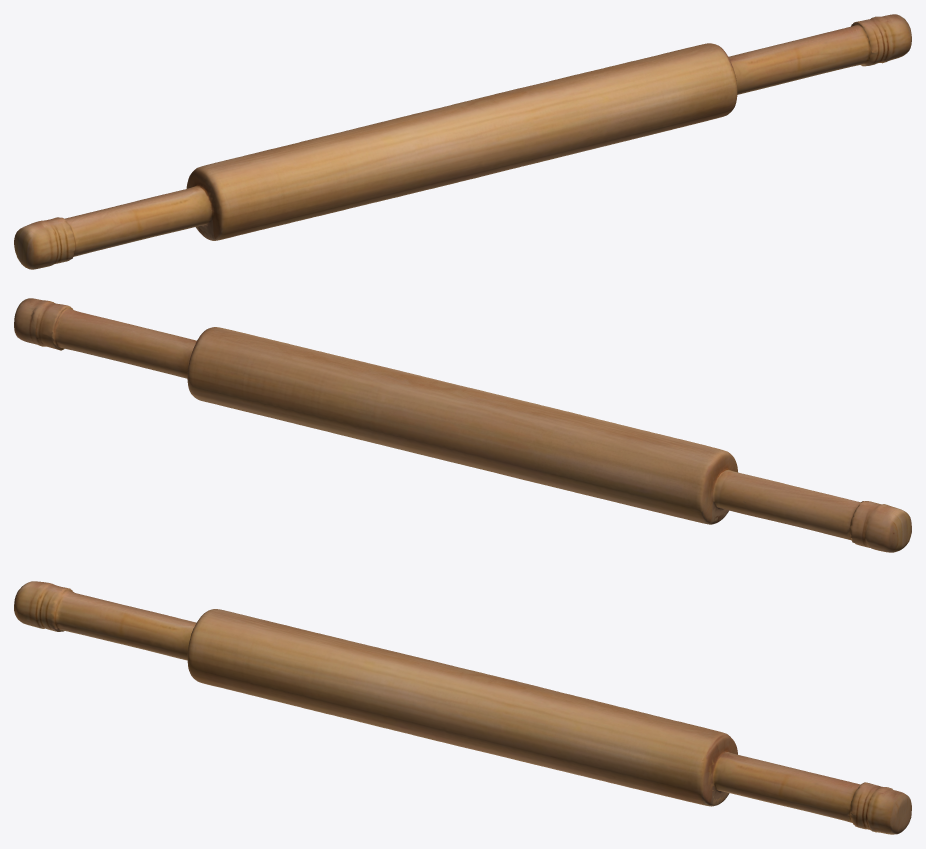
The model's file is rolling.glb.
3 views of the same model, one above another, from view 1: azimuth 30°, elevation 25°; view 2: azimuth 150°, elevation 25°; view 3: azimuth 330°, elevation 25° (orthographic).
Bounding box in the file's own units: 2 × 0.1512 × 0.1487.
1 material, 1 textured.
